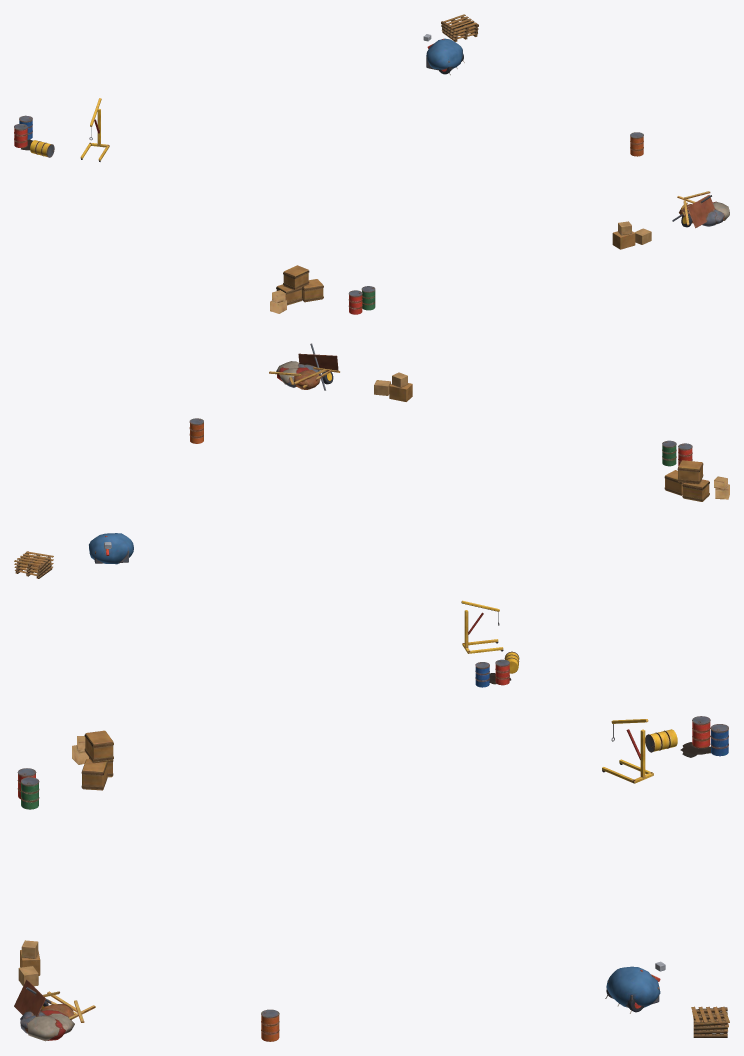
File: ws_corners.glb
3 views of the same model, one above another, from view 1: azimuth 30°, elevation 25°; view 2: azimuth 150°, elevation 25°; view 3: azimuth 270°, elevation 25° (orthographic). The views are drawn at different scales.
Visible parts, largest first — view 1: corners, scrap, drums; view 2: corners, scrap, drums; view 3: corners, scrap, drums.
Boxes of the visible parts, x1=… form: corners: x1=80, y1=34, x2=464, y2=313; scrap: x1=441, y1=14, x2=729, y2=249; drums: x1=14, y1=115, x2=643, y2=314; corners: x1=89, y1=460, x2=729, y2=653; scrap: x1=14, y1=343, x2=412, y2=578; drums: x1=189, y1=418, x2=692, y2=687; corners: x1=72, y1=719, x2=665, y2=1013; scrap: x1=14, y1=940, x2=729, y2=1041; drums: x1=17, y1=716, x2=728, y2=1041.
Bounding box in the file's own units: 23.18 × 2.42 × 23.25.
1 material, 1 textured.
